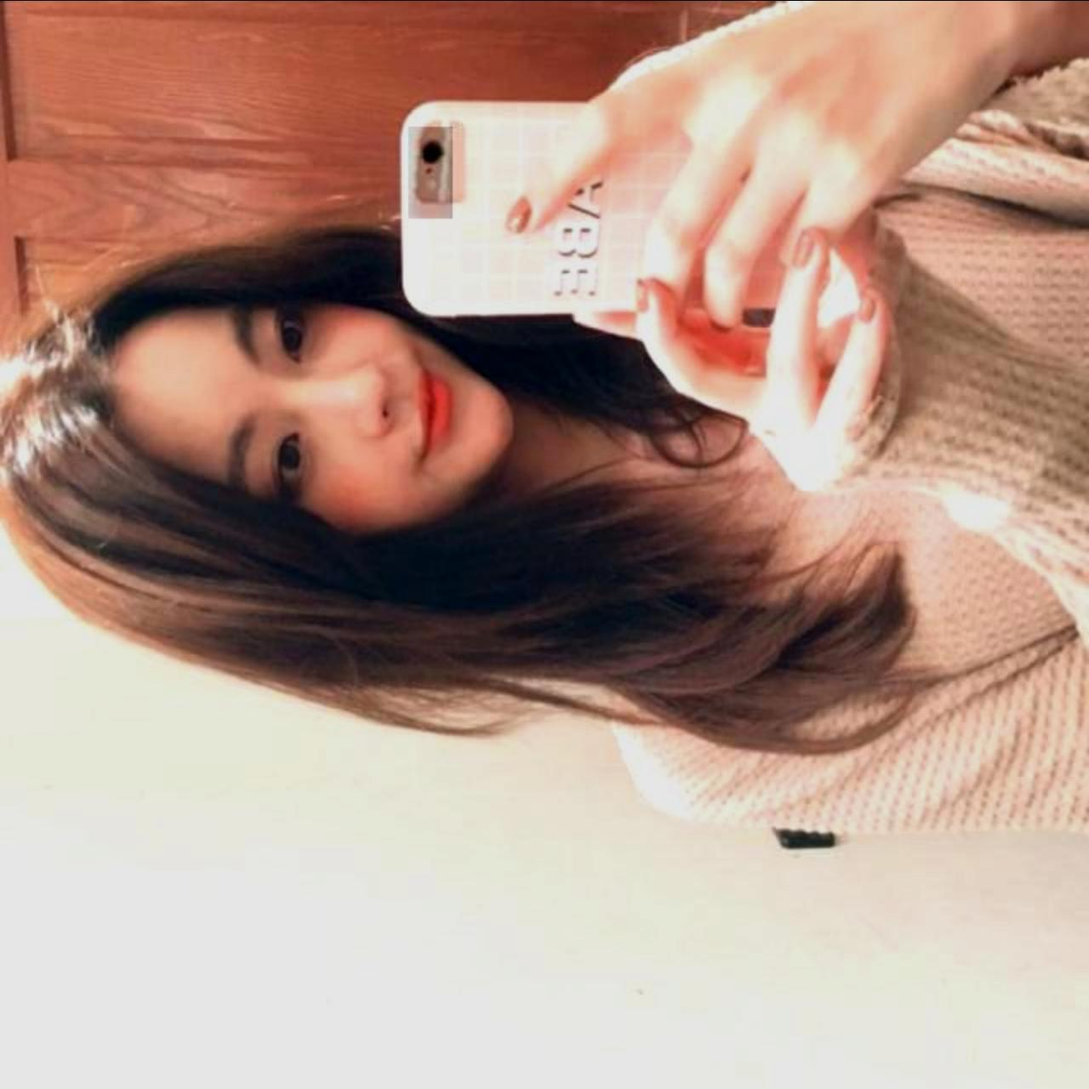phone: (398, 90, 796, 320)
